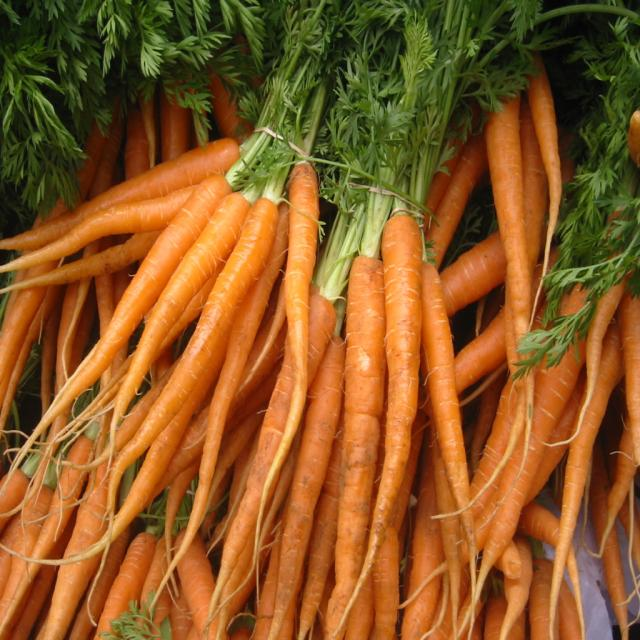carrot: (0, 35, 640, 640), (196, 152, 321, 638)
